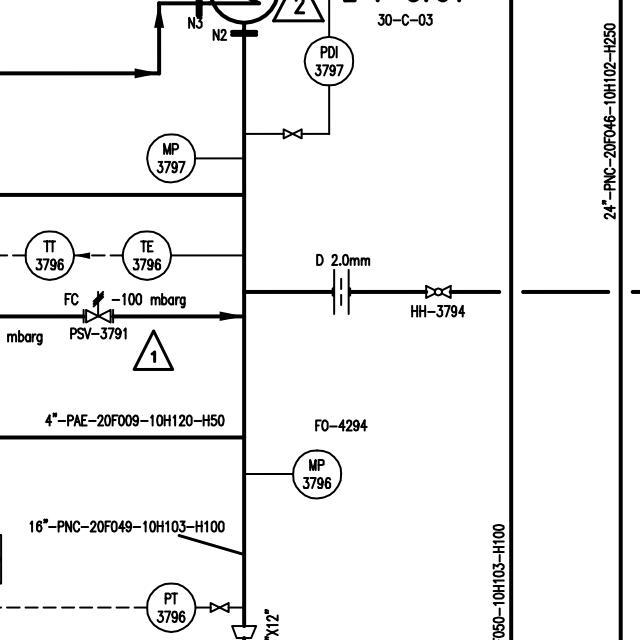BV2: (422, 282, 455, 300)
GV: (208, 600, 232, 615), (280, 127, 304, 141)
O: (329, 265, 357, 318)
RPV: (80, 288, 116, 325)
SP: (228, 622, 259, 639)
